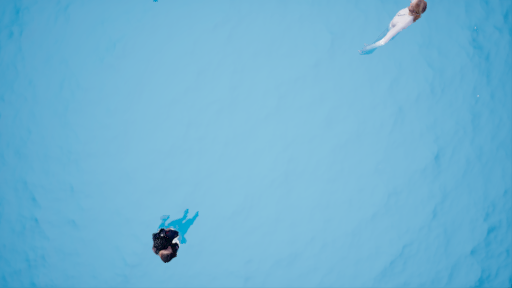person: (357, 1, 439, 68), (144, 202, 203, 266)
